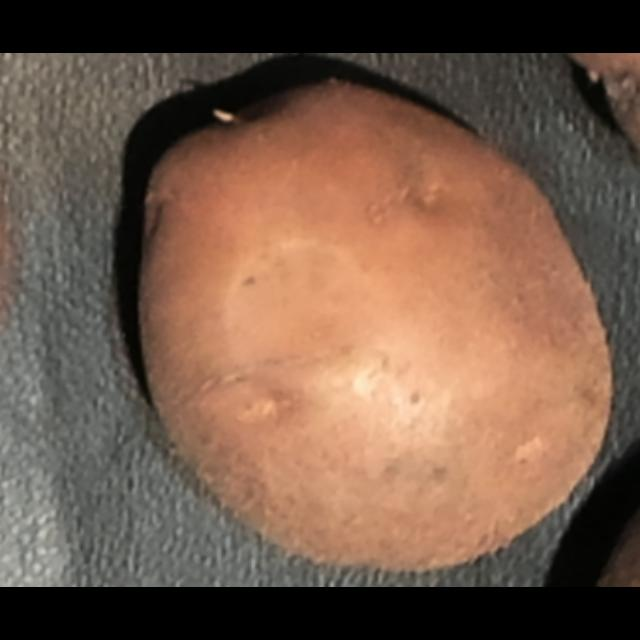Diseased-fungal potato: (118, 53, 622, 574)
